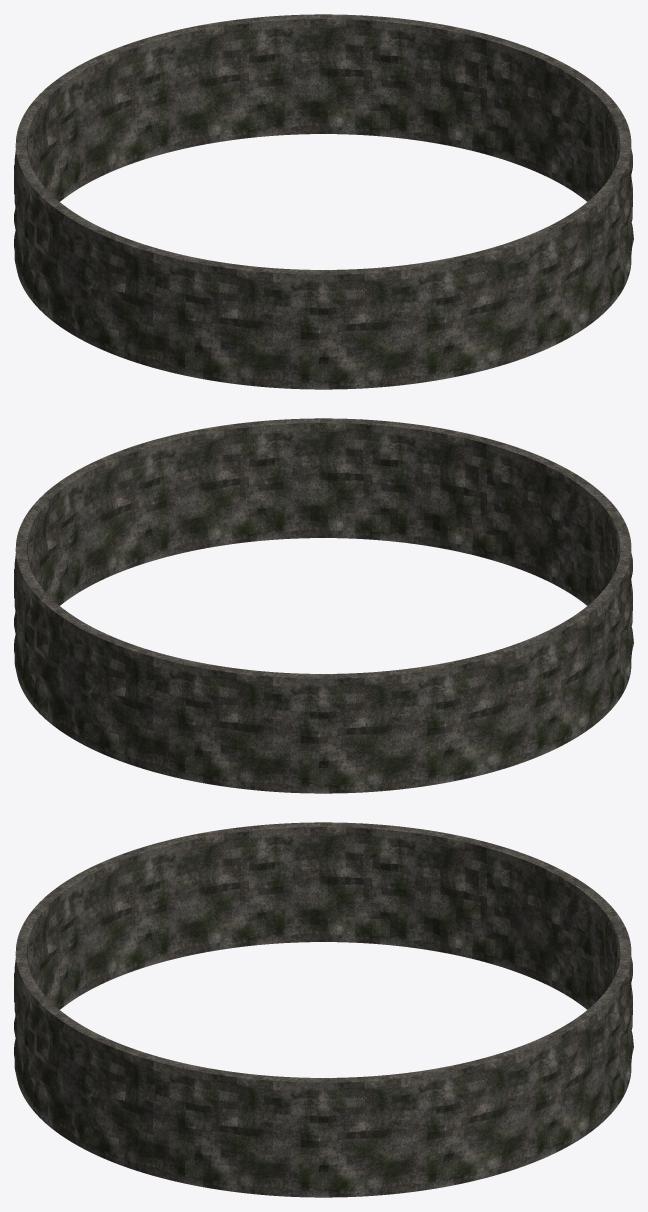
File: underground_wall_round_01.fbx
3 renders of one model, top to bottom at view 1: azimuth 30°, elevation 25°; view 2: azimuth 150°, elevation 25°; view 3: azimuth 270°, elevation 25°, orthographic.
Parts seen in each view (by area): view 1: underground_wall_round_01; view 2: underground_wall_round_01; view 3: underground_wall_round_01.
Part boxes in pixels (<box>): underground_wall_round_01: <box>14,14,633,389</box>; underground_wall_round_01: <box>14,418,633,793</box>; underground_wall_round_01: <box>14,822,633,1197</box>.
Size of the model in its own units: 1613 by 330 by 1613.
1 material, 1 textured.
